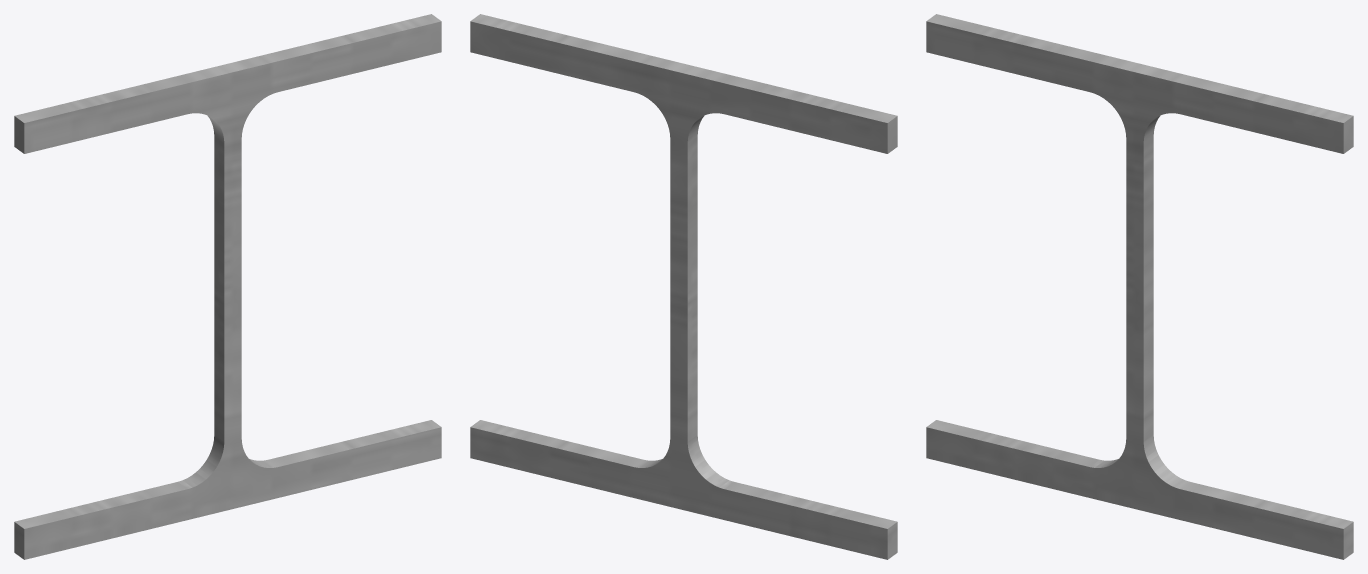
Rendered from HEB240.glb.
3 renders of one model, left to right at view 1: azimuth 30°, elevation 25°; view 2: azimuth 150°, elevation 25°; view 3: azimuth 330°, elevation 25°, orthographic.
Size of the model in its own units: 24 by 24 by 1.
1 material, 1 textured.
